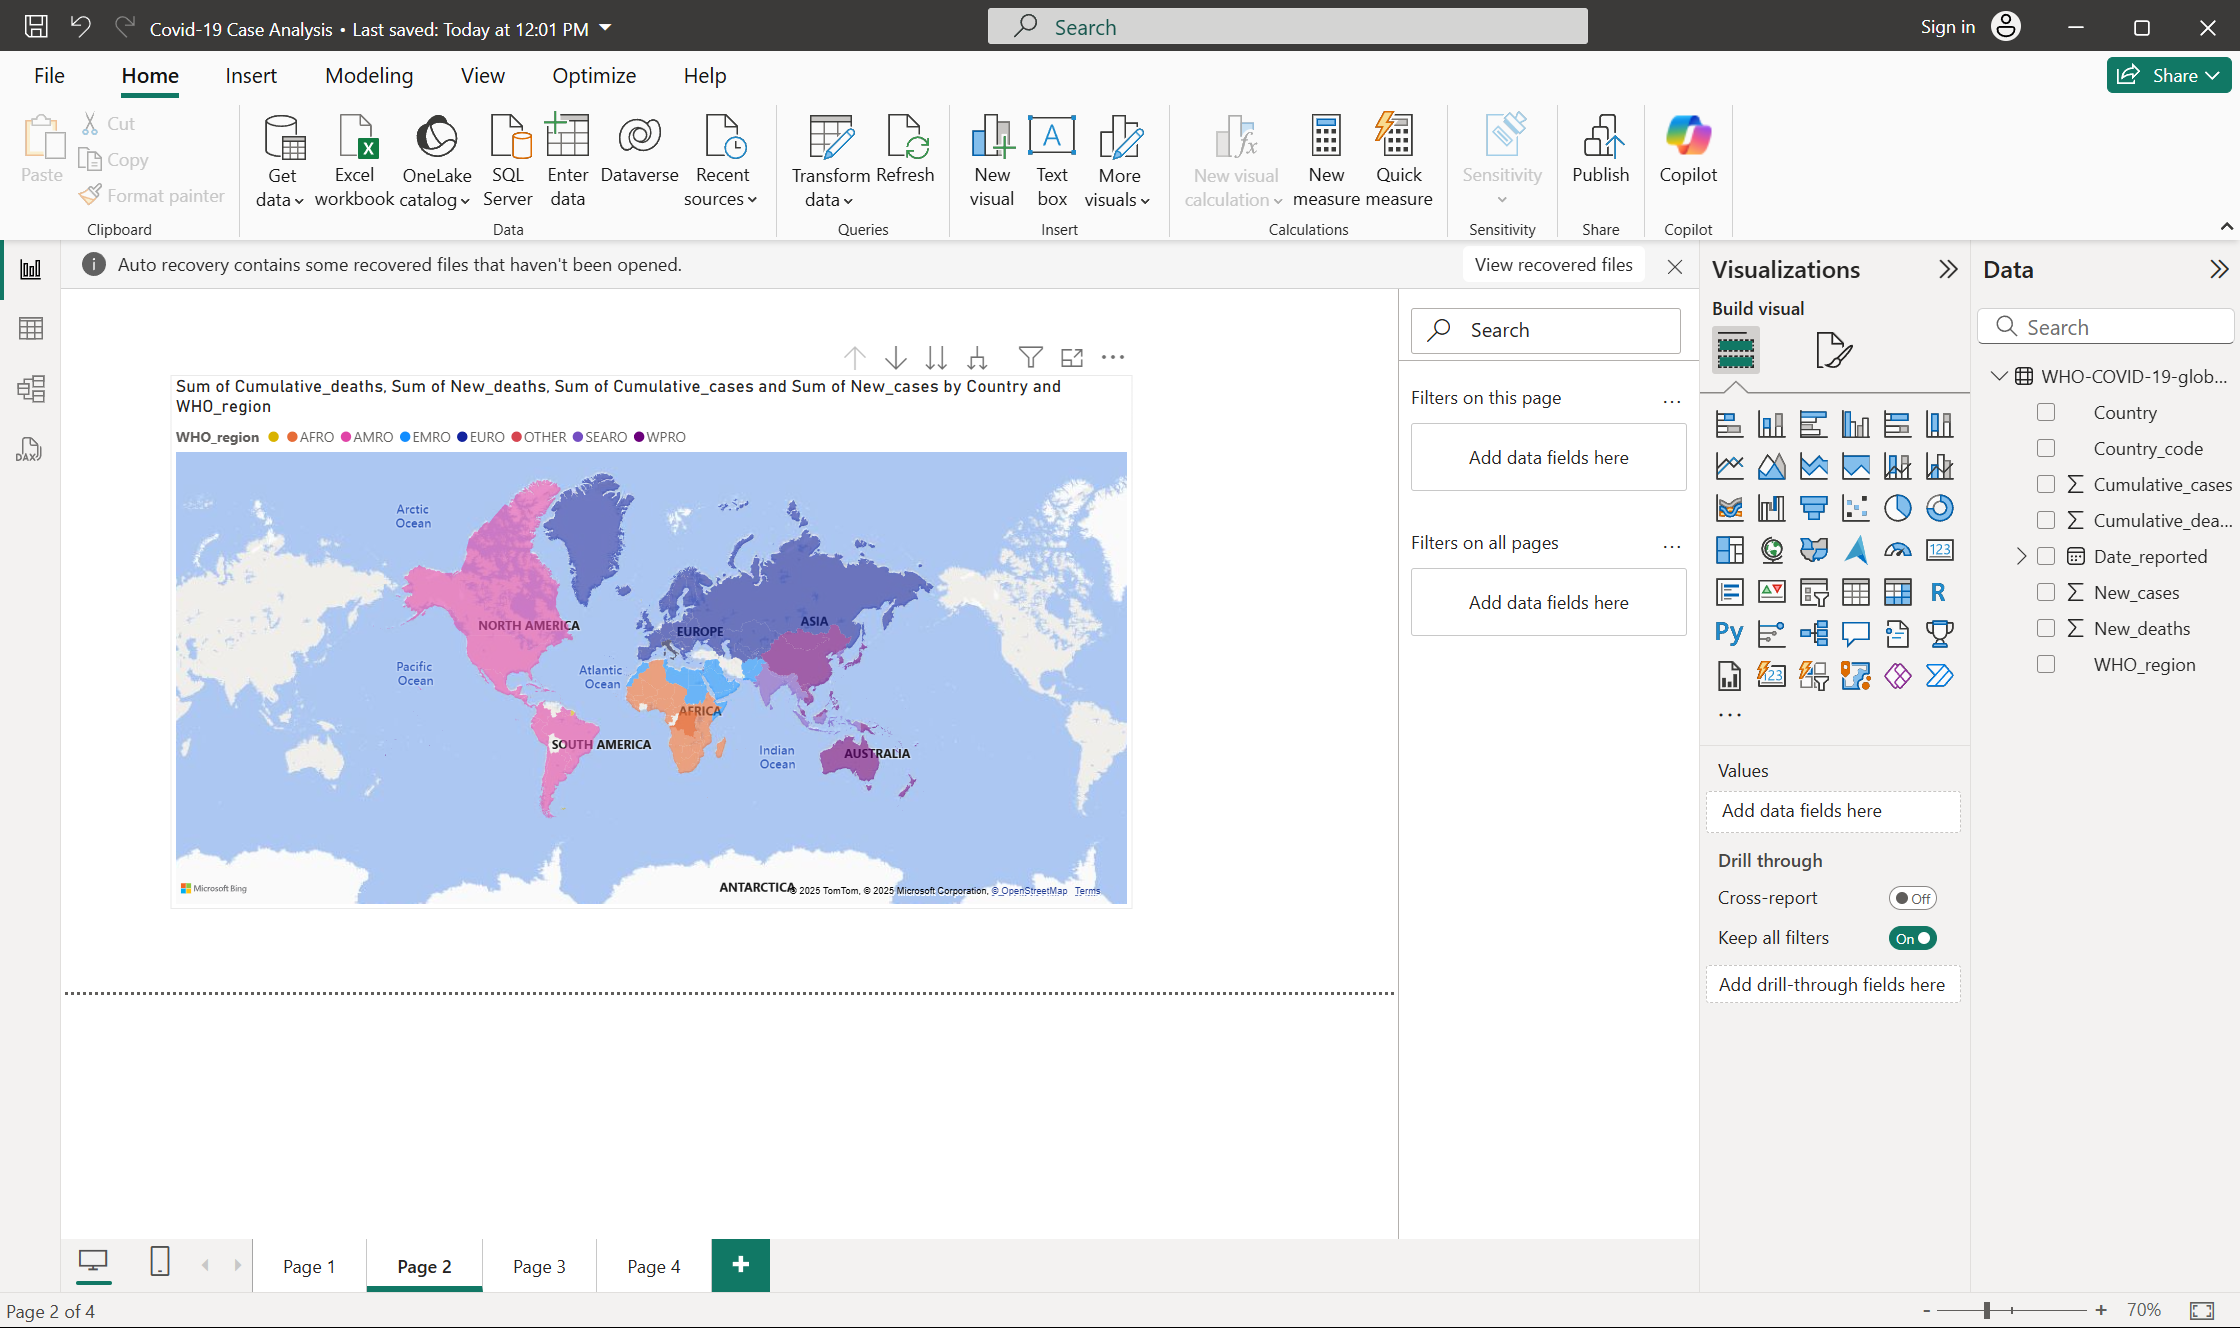

Layout of this report page (visuals, bound fields, positions):
{"tool":"powerbi","page":{"name":"Page 2","canvas":[1280,720],"ordinal":1},"visuals":[{"type":"filledMap","fields":{"Category":["WHO-COVID-19-global-data.Country","WHO-COVID-19-global-data.Date_reported.Variation.Date Hierarchy.Year","WHO-COVID-19-global-data.Date_reported.Variation.Date Hierarchy.Quarter","WHO-COVID-19-global-data.Date_reported.Variation.Date Hierarchy.Month","WHO-COVID-19-global-data.Date_reported.Variation.Date Hierarchy.Day","WHO-COVID-19-global-data.Country_code"],"Series":["WHO-COVID-19-global-data.WHO_region"]},"box":[104.8,129.2,920.5,511.2],"z":0}]}

Visuals, with their boxes on the page's 1280x720 design canvas (x1, y1, x2, y2). These are canvas units, not pixel positions in the 2240x1328 screenshot, which may show the page scaled, cropped or inside an application window:
filledMap - WHO-COVID-19-global-data.Country x WHO-COVID-19-global-data.Date_reported.Variation.Date Hierarchy.Year: (105,129,1025,640)
